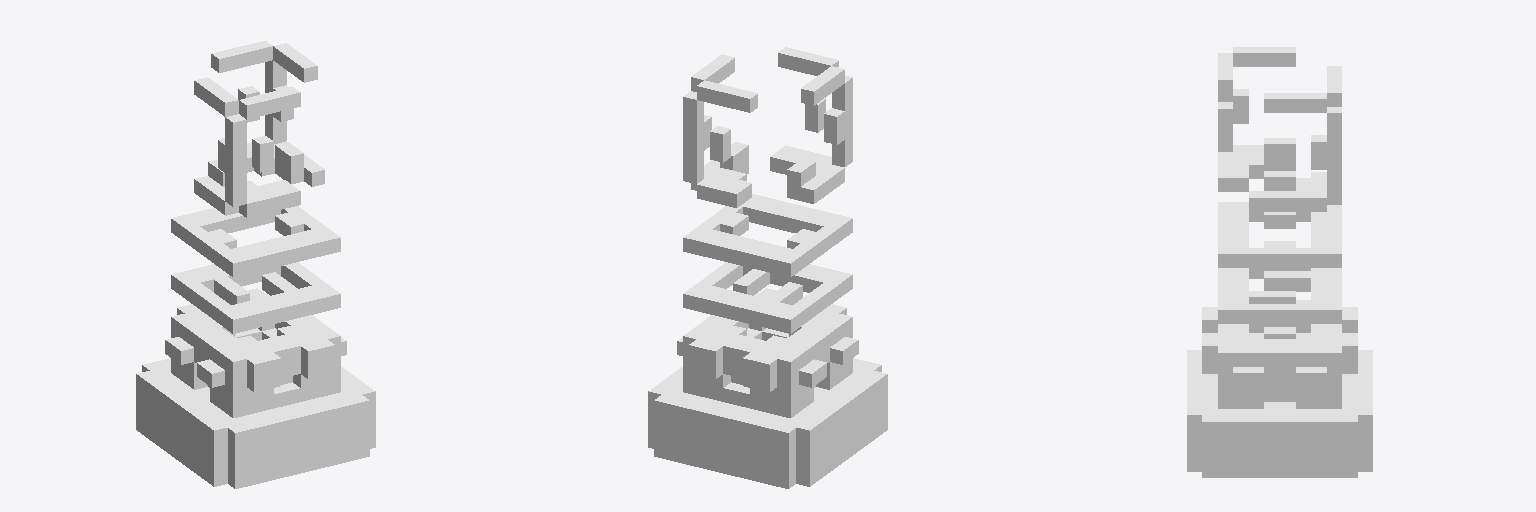
The model's file is assassin_red.obj.
The picture shows the model from 3 angles: view 1: azimuth 30°, elevation 25°; view 2: azimuth 150°, elevation 25°; view 3: azimuth 270°, elevation 25°; orthographic projection.
Visible parts, largest first — view 1: object 1; view 2: object 1; view 3: object 1.
Part boxes in pixels (bbox=[...]): object 1: bbox=[136, 41, 375, 488]; object 1: bbox=[648, 47, 887, 488]; object 1: bbox=[1187, 47, 1372, 477].
Bounding box in the file's own units: 1.2 × 2.6 × 1.2.